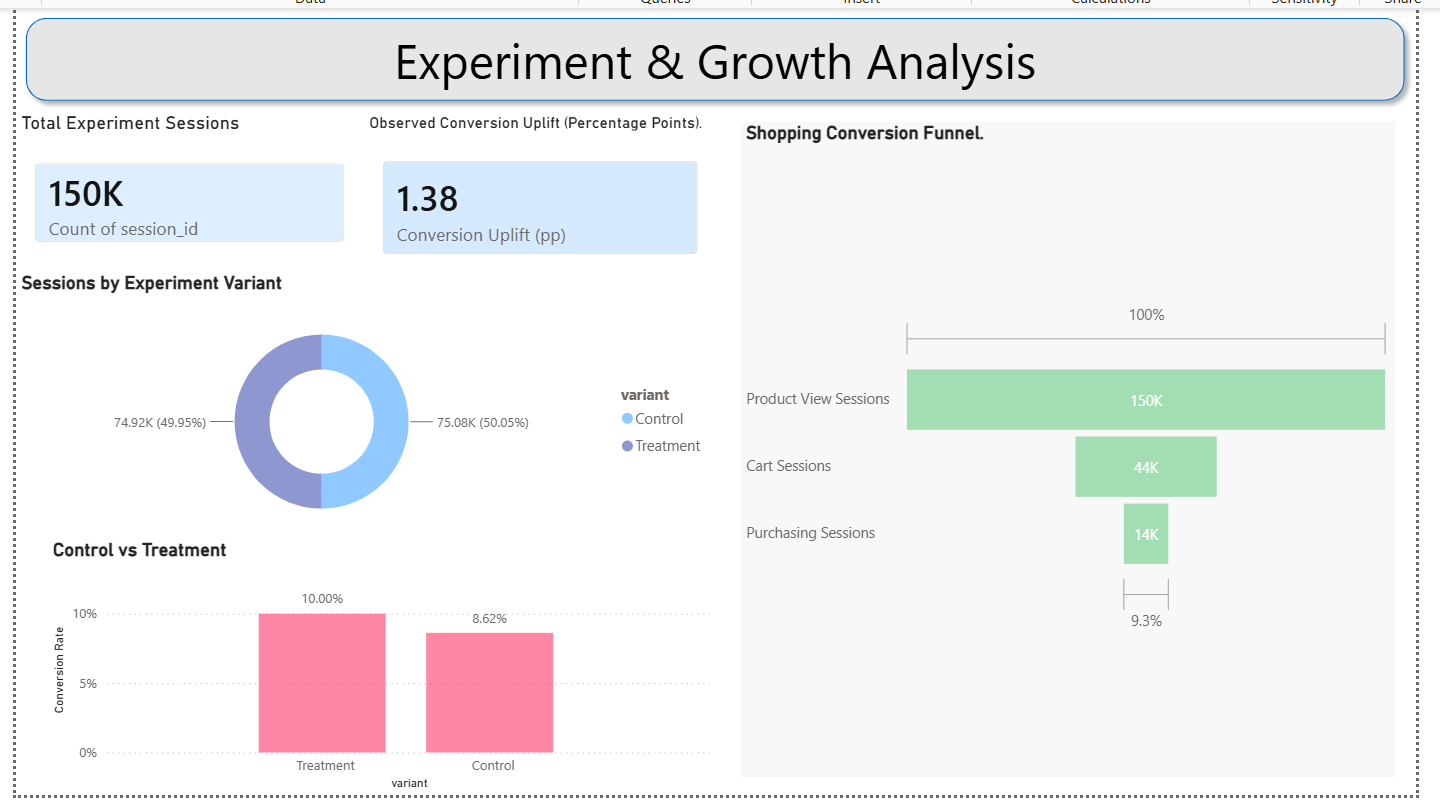

The page's visual inventory and layout, read from the dashboard file:
{"tool":"powerbi","page":{"name":"A/B Testing & Growth","canvas":[1280,720],"ordinal":3},"visuals":[{"type":"shape","box":[0,0,1279.5,93.9],"z":0},{"type":"cardVisual","title":"Total Experiment Sessions","fields":{"Data":["Count(experiment_sessions.session_id)"]},"box":[0,94.3,318,136.9],"z":1000},{"type":"donutChart","title":"Sessions by Experiment Variant","fields":{"Category":["experiment_sessions.variant"],"Y":["Count(experiment_sessions.session_id)"]},"box":[0,241.9,640.5,243.4],"z":2000},{"type":"clusteredColumnChart","title":"Control vs Treatment","fields":{"Category":["experiment_sessions.variant"],"Y":["DateTable.Conversion Rate"]},"box":[28.9,485.3,611.6,234.3],"z":3000},{"type":"cardVisual","title":"Observed Conversion Uplift (Percentage Points).","fields":{"Data":["DateTable.Conversion Uplift (pp)"]},"box":[318,95.8,322.5,146.1],"z":4000},{"type":"funnel","title":"Shopping Conversion Funnel.","fields":{"Y":["DateTable.Product View Sessions","DateTable.Cart Sessions","DateTable.Purchasing Sessions"]},"box":[663.3,105,599.4,599.4],"z":5000}]}

Visuals, with their boxes on the page's 1280x720 design canvas (x1, y1, x2, y2). These are canvas units, not pixel positions in the 1440x802 screenshot, which may show the page scaled, cropped or inside an application window:
shape: bbox=(0, 0, 1280, 94)
"Total Experiment Sessions" cardVisual: bbox=(0, 94, 318, 231)
"Sessions by Experiment Variant" donutChart: bbox=(0, 242, 640, 485)
"Control vs Treatment" clusteredColumnChart: bbox=(29, 485, 640, 720)
"Observed Conversion Uplift (Percentage Points)." cardVisual: bbox=(318, 96, 640, 242)
"Shopping Conversion Funnel." funnel: bbox=(663, 105, 1263, 704)
